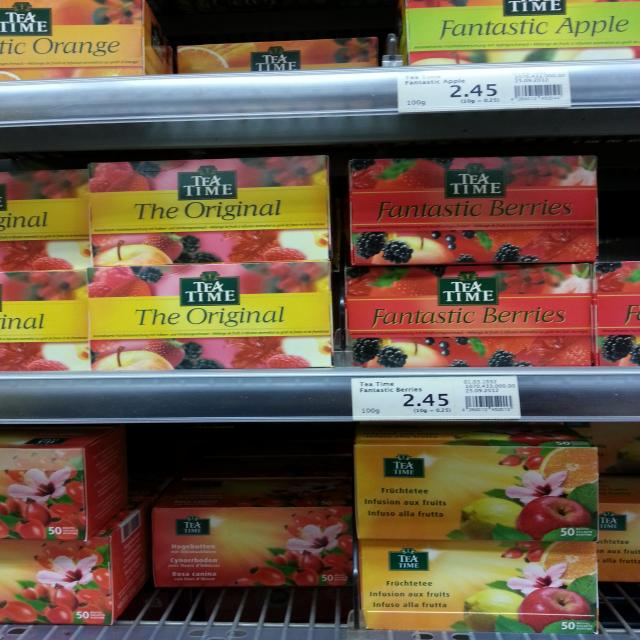Tea: (348, 262, 640, 375), (347, 156, 605, 266), (87, 157, 335, 267), (356, 437, 597, 547), (90, 269, 336, 369), (352, 548, 598, 637), (147, 486, 354, 588), (392, 1, 640, 68), (0, 508, 137, 627), (0, 432, 134, 541), (0, 0, 160, 79), (0, 276, 89, 381), (0, 173, 91, 274), (174, 34, 374, 74)
